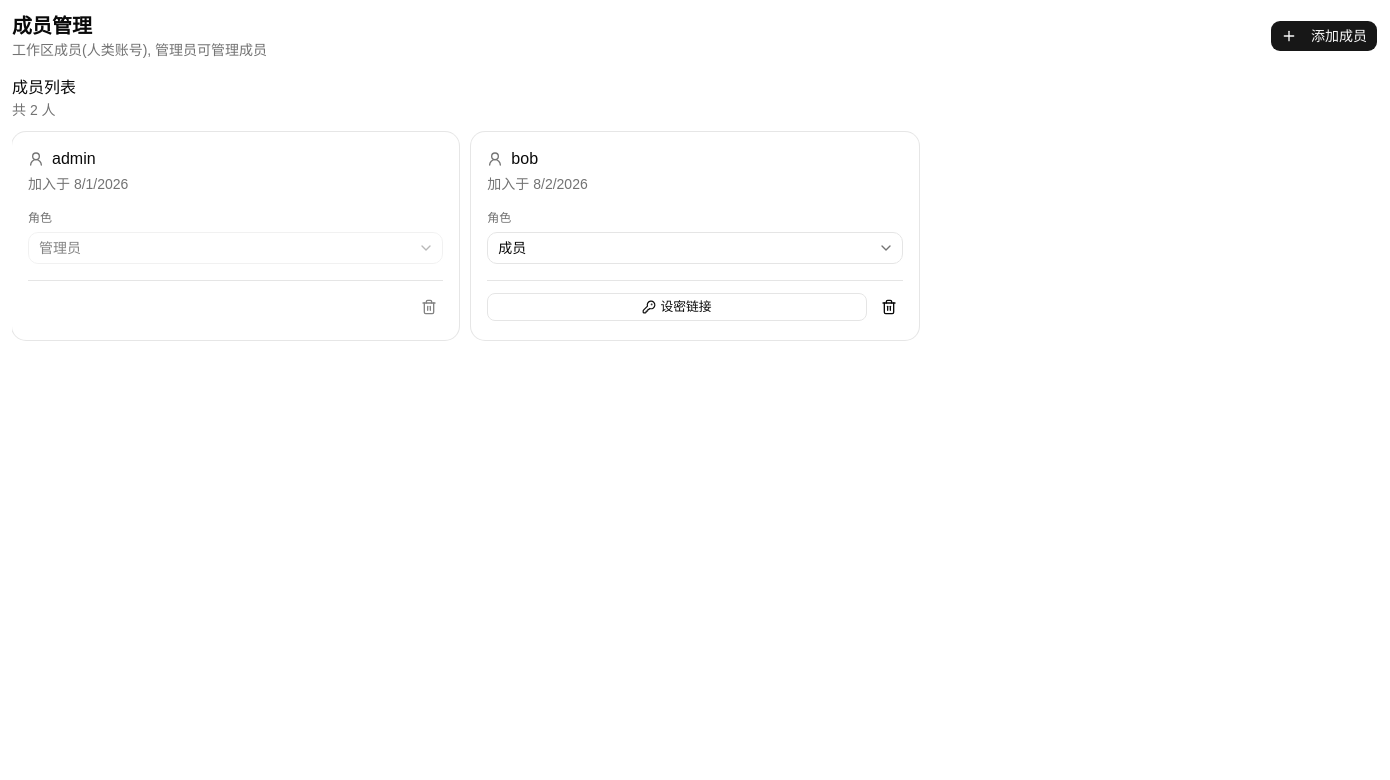
MembersPage 成员列表渲染 › 成员操作失败时以非模态提示展示错误
Click the button named "重新生成 bob 的设密链接": (677, 307) [487,293,867,321]
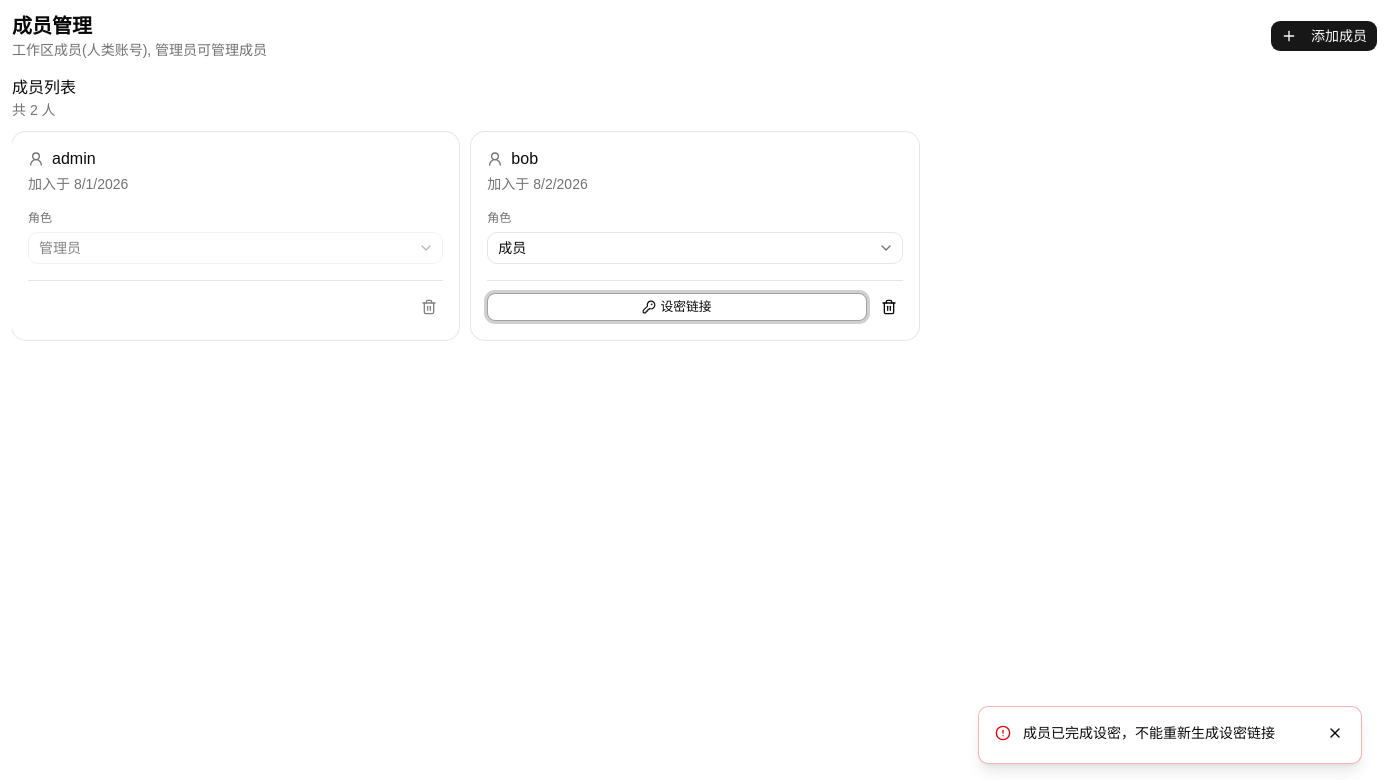
Expected: the message reads "成员已完成设密，不能重新生成设密链接", [1023,725,1275,741]
